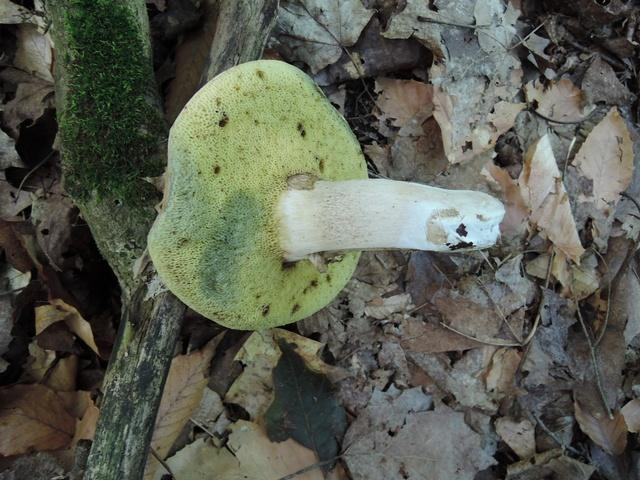edible_mushroom: (145, 57, 506, 332)
